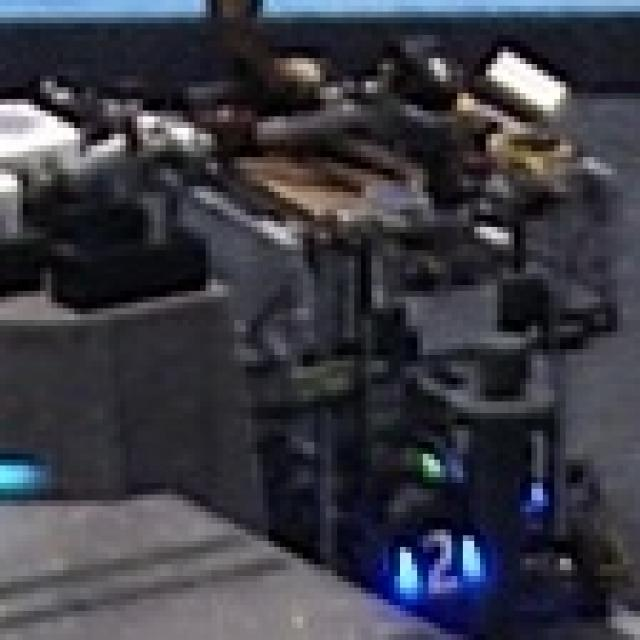B2: (388, 524, 486, 599)
